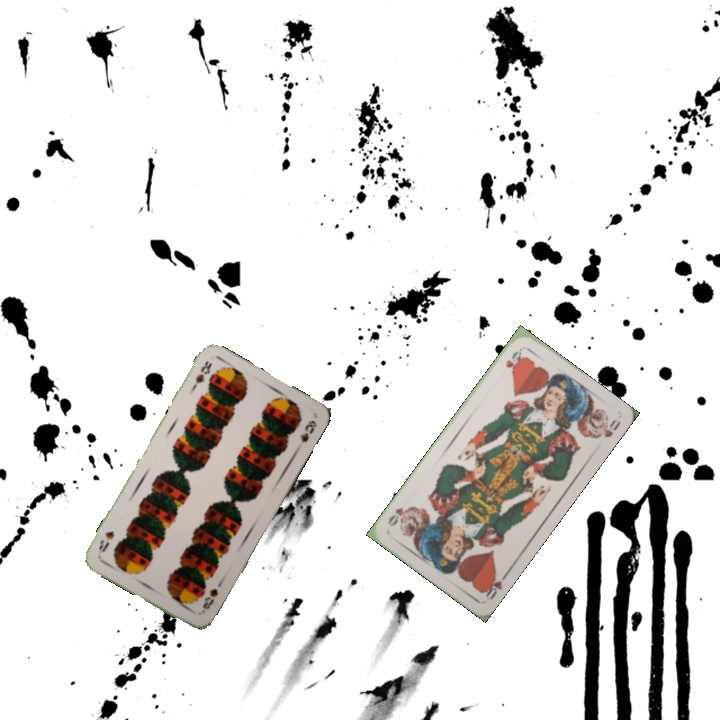HO: (478, 568, 511, 603), (501, 344, 526, 375)
S8: (187, 356, 215, 393), (198, 584, 221, 616)
